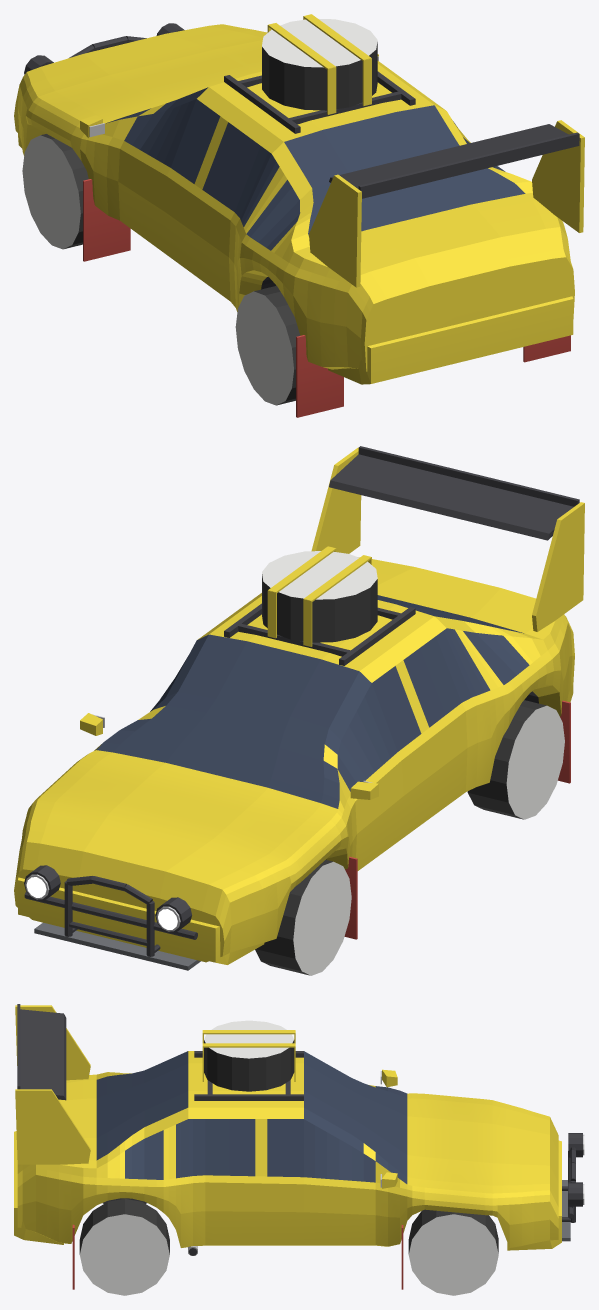
File: degaulle.glb
3 views of the same model, one above another, from view 1: azimuth 30°, elevation 25°; view 2: azimuth 150°, elevation 25°; view 3: azimuth 270°, elevation 25° (orthographic). The views are drawn at different scales.
Visible parts, largest first — view 1: Body, Spoiler, Bumper_R, SpareWheel, Wheel_RL, Wheel_FL, MudFlaps, RoofSpare, BullBar; view 2: Body, Spoiler, SpareWheel, Wheel_RL, Bumper_F, Wheel_FL, BullBar, RoofSpare, MudFlaps; view 3: Body, Spoiler, Wheel_RR, Wheel_FR, SpareWheel, RoofSpare, BullBar, Bumper_F, Bumper_R, MudFlaps.
Boxes of the visible parts, x1,y1,x2,y2 form: Body: (14,24,574,371); Spoiler: (309,120,584,287); Bumper_R: (328,296,573,384); SpareWheel: (262,18,377,110); Wheel_RL: (235,286,300,405); Wheel_FL: (22,134,88,249); MudFlaps: (83,179,570,417); RoofSpare: (224,14,415,133); BullBar: (24,23,184,74); Body: (14,557,574,962); Spoiler: (311,446,584,631); SpareWheel: (262,551,377,642); Wheel_RL: (467,700,564,819); Bumper_F: (18,877,264,970); Wheel_FL: (255,860,351,975); BullBar: (24,865,197,956); RoofSpare: (224,546,415,665); MudFlaps: (344,700,570,939); Body: (17,1051,558,1247); Spoiler: (15,1004,90,1164); Wheel_RR: (79,1198,169,1295); Wheel_FR: (408,1209,498,1295); SpareWheel: (204,1020,294,1091); RoofSpare: (194,1030,303,1100); BullBar: (562,1133,584,1222); Bumper_F: (507,1140,570,1250); Bumper_R: (14,1131,63,1244); MudFlaps: (72,1224,403,1289).
Bounding box in the file's own units: 2.12 × 1.87 × 4.69.
